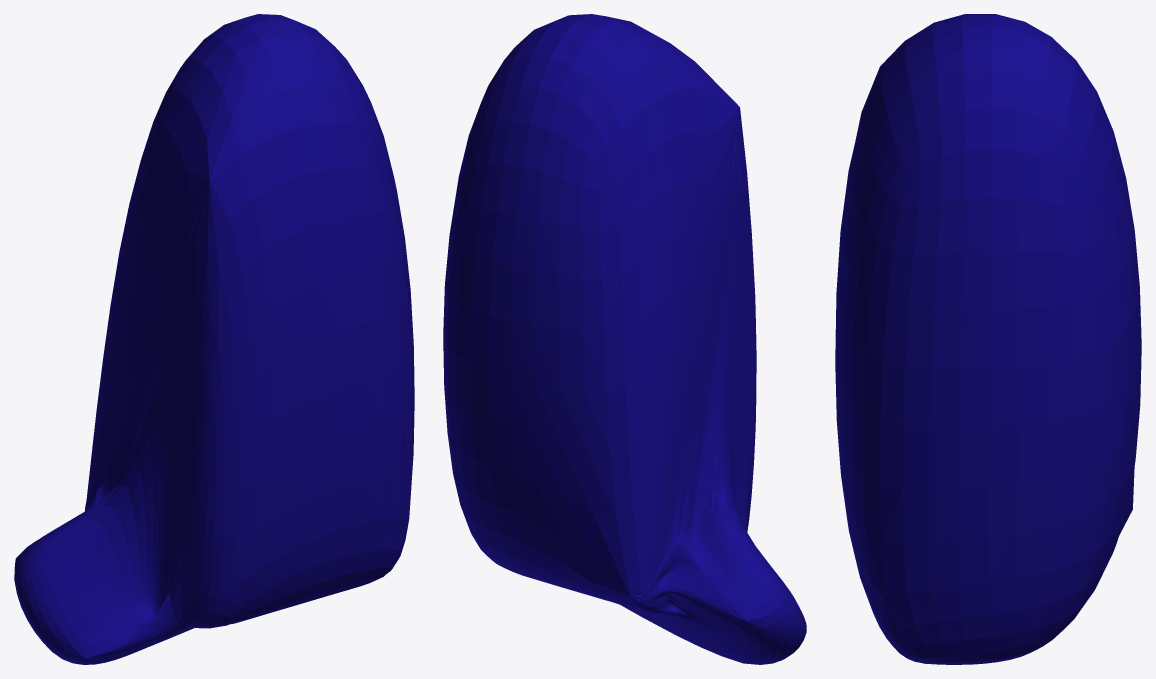
The picture shows the model from 3 angles, left to right: view 1: azimuth 30°, elevation 25°; view 2: azimuth 150°, elevation 25°; view 3: azimuth 270°, elevation 25°; orthographic projection. The views are drawn at different scales.
Parts seen in each view (by area): view 1: 170_Cube.706; view 2: 170_Cube.706; view 3: 170_Cube.706.
Boxes of the visible parts, x1=… form: 170_Cube.706: x1=14, y1=14, x2=414, y2=664; 170_Cube.706: x1=443, y1=14, x2=806, y2=664; 170_Cube.706: x1=835, y1=14, x2=1141, y2=664.
Size of the model in its own units: 7.71 by 12.67 by 5.4.
